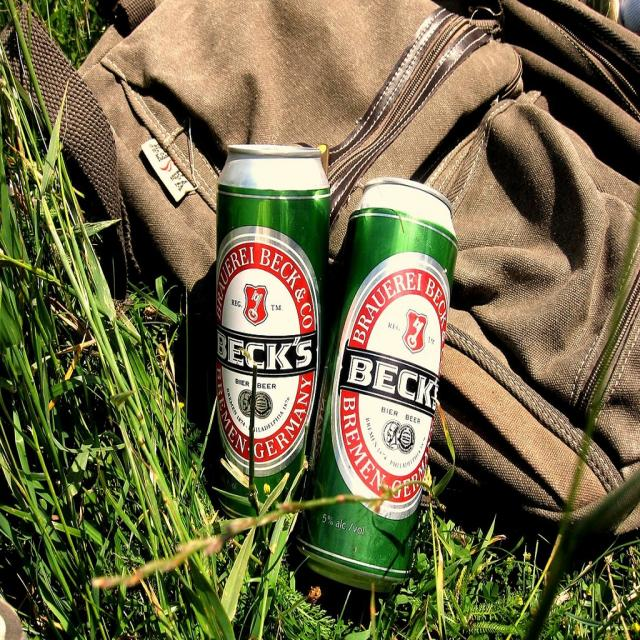becks: (331, 252, 452, 521), (217, 227, 322, 477)
